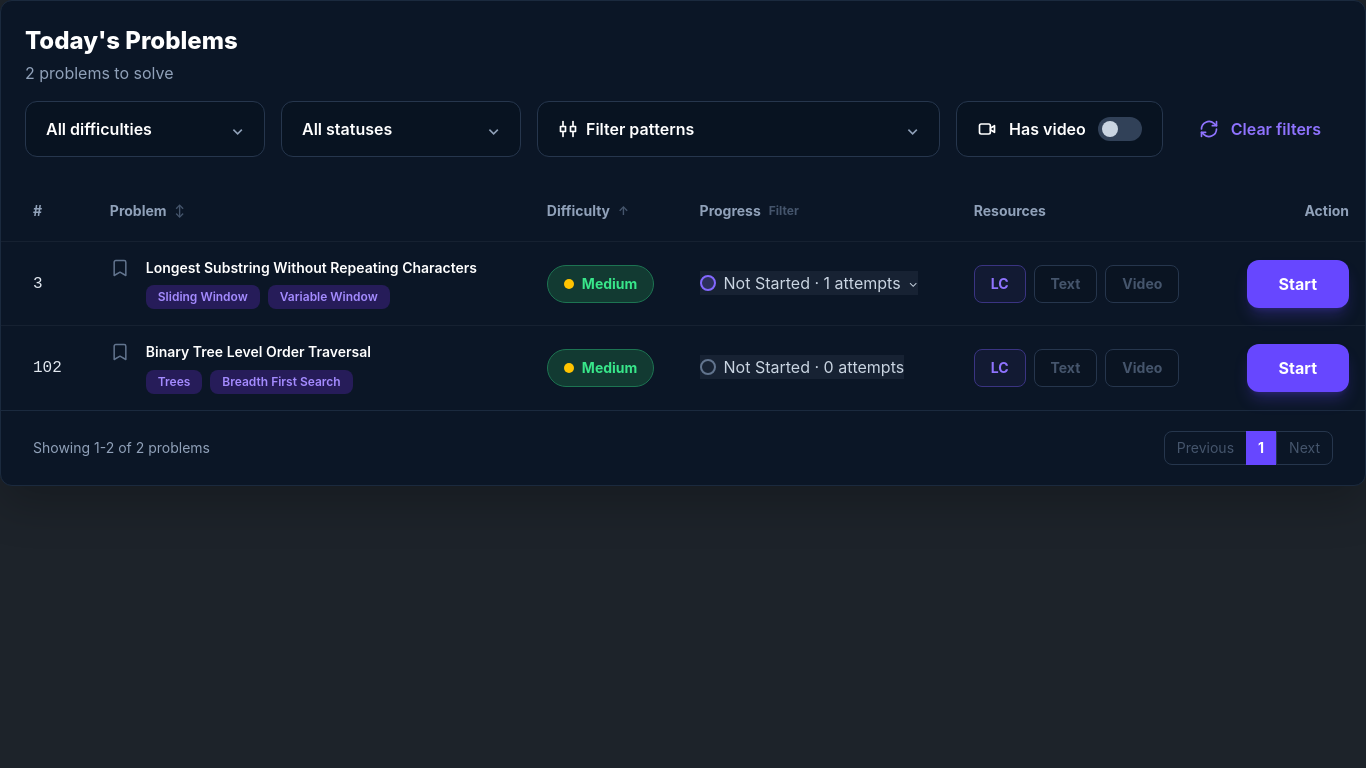
Test case: LeetcodeDashboardProblemTableClient › opens the attempt overlay before starting a dashboard attempt
Click the button "Start" in the row of "102". click: (1298, 368)
box: [1247,344,1349,392]
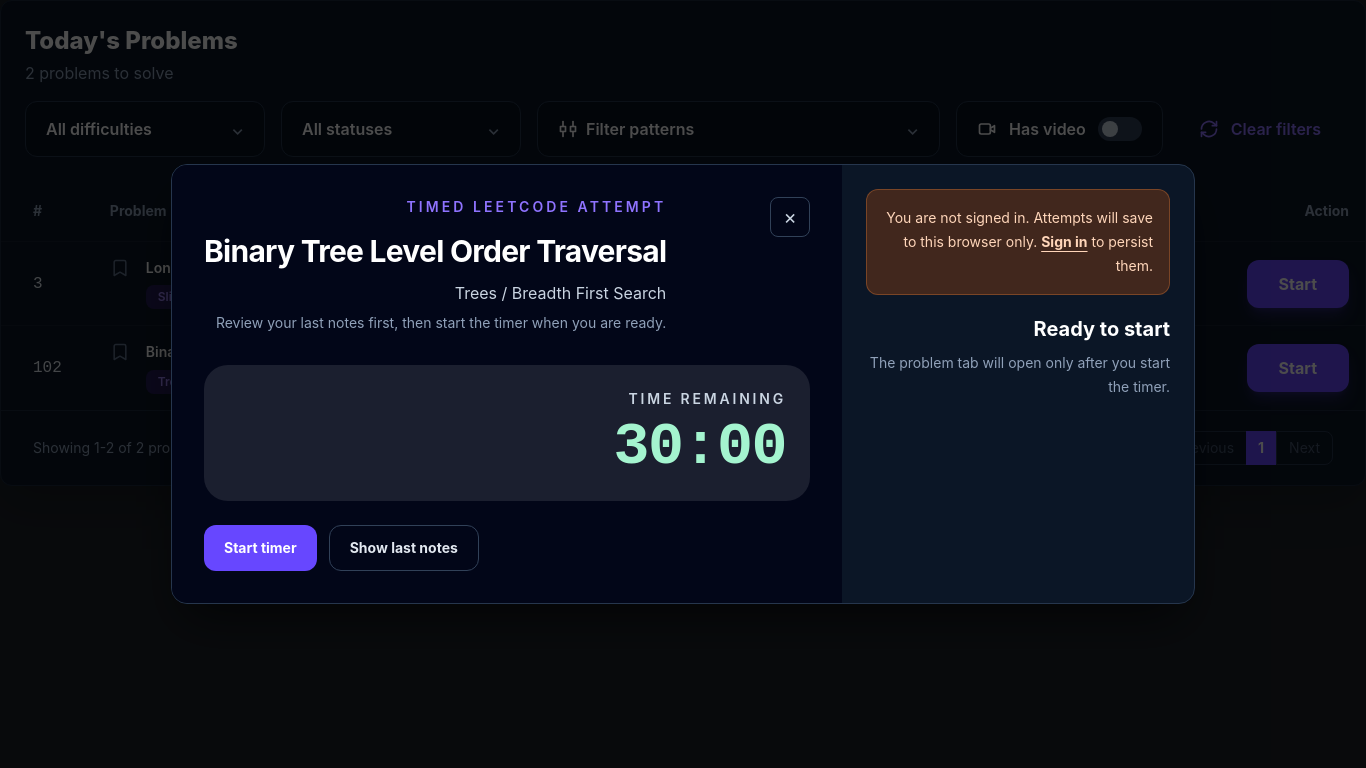
Expected: the dialog "Binary Tree Level Order Traversal" is shown
Expected: the heading "Ready to start" is shown, [1034,317,1170,341]
